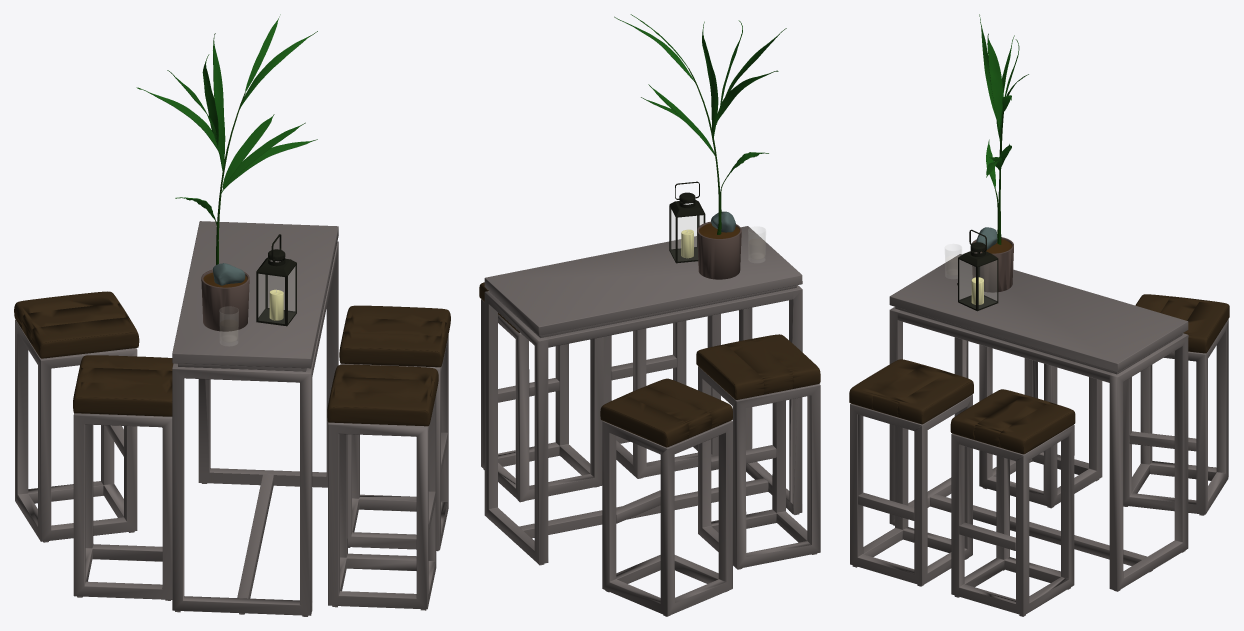
The model's file is bar_set.glb.
3 renders of one model, left to right at view 1: azimuth 30°, elevation 25°; view 2: azimuth 150°, elevation 25°; view 3: azimuth 270°, elevation 25°, orthographic. The views are drawn at different scales.
Visible parts, largest first — view 1: Box50241_PVC Black Matte_0, obj_004_Leather Genuine Black_0, AM160_027_05_AM160_027_leaf_0, AM160_027_07_AM160_027_glass_0; view 2: Box50241_PVC Black Matte_0, obj_004_Leather Genuine Black_0, AM160_027_05_AM160_027_leaf_0, AM160_027_07_AM160_027_glass_0; view 3: Box50241_PVC Black Matte_0, obj_004_Leather Genuine Black_0, AM160_027_05_AM160_027_leaf_0, AM160_027_07_AM160_027_glass_0.
Boxes of the visible parts, x1,y1,x2,y2 form: Box50241_PVC Black Matte_0: (15,221,448,616); obj_004_Leather Genuine Black_0: (14,234,450,426); AM160_027_05_AM160_027_leaf_0: (136,14,317,264); AM160_027_07_AM160_027_glass_0: (219,266,295,345); Box50241_PVC Black Matte_0: (481,226,820,616); obj_004_Leather Genuine Black_0: (479,181,820,447); AM160_027_05_AM160_027_leaf_0: (614,14,786,234); AM160_027_07_AM160_027_glass_0: (670,208,765,262); Box50241_PVC Black Matte_0: (850,254,1228,616); obj_004_Leather Genuine Black_0: (849,227,1229,454); AM160_027_05_AM160_027_leaf_0: (979,14,1028,244); AM160_027_07_AM160_027_glass_0: (945,244,996,308).
Size of the model in its own units: 1.66 by 2.29 by 1.66.
4 materials, 4 textured.
